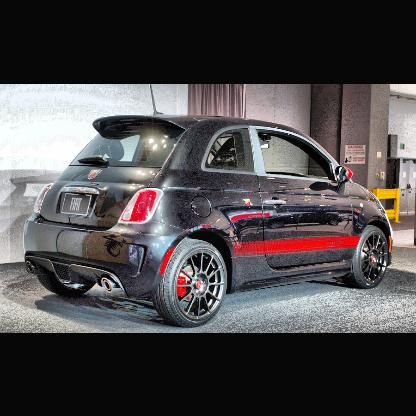FIAT 500 Abarth 2012: (26, 84, 393, 328)
